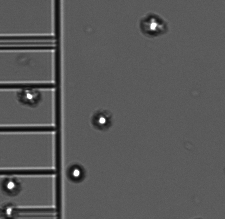Living Cell: (141, 12, 166, 36), (90, 109, 112, 129), (65, 162, 87, 181), (3, 176, 22, 197), (20, 88, 40, 106), (1, 202, 18, 217)
